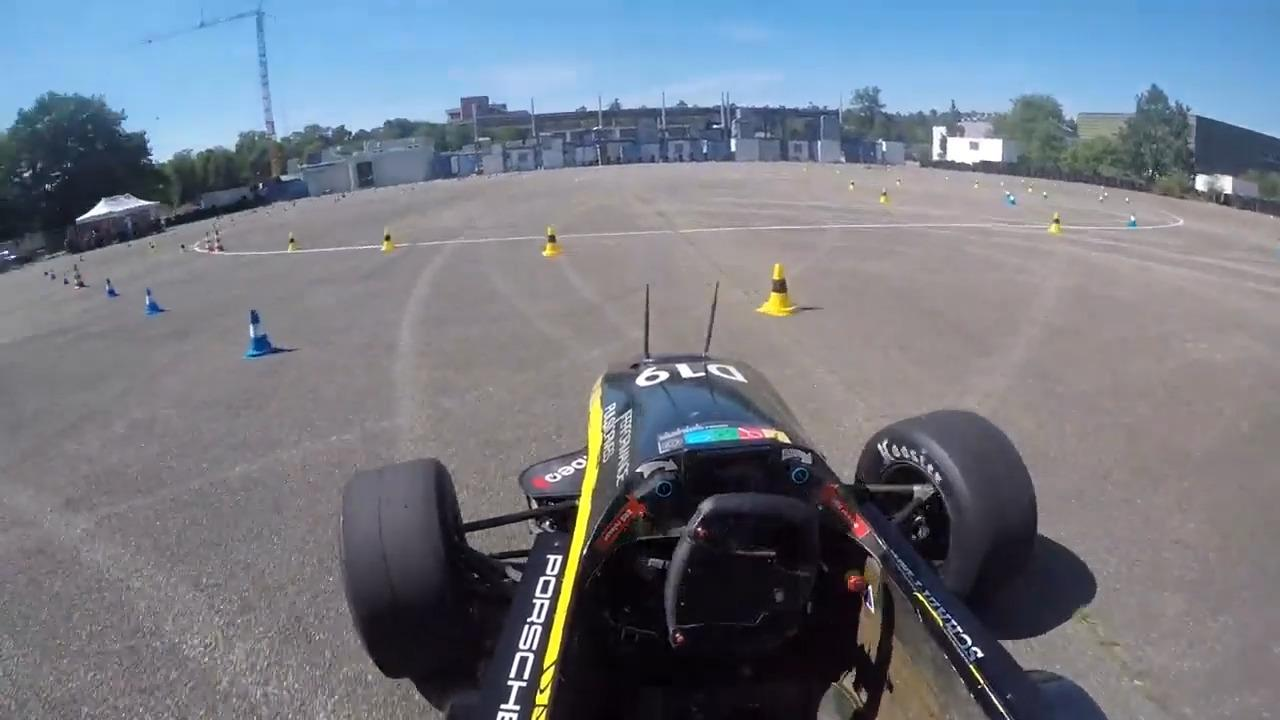blue_cone: (243, 308, 280, 360), (143, 286, 165, 317), (103, 277, 119, 298), (1128, 212, 1137, 229), (1007, 192, 1017, 207)
large_orange_cone: (72, 263, 85, 288), (211, 229, 225, 252), (203, 232, 214, 253)
yellow_cone: (753, 262, 800, 318), (540, 224, 565, 259), (380, 225, 399, 254), (1048, 211, 1064, 235), (878, 186, 890, 204)
